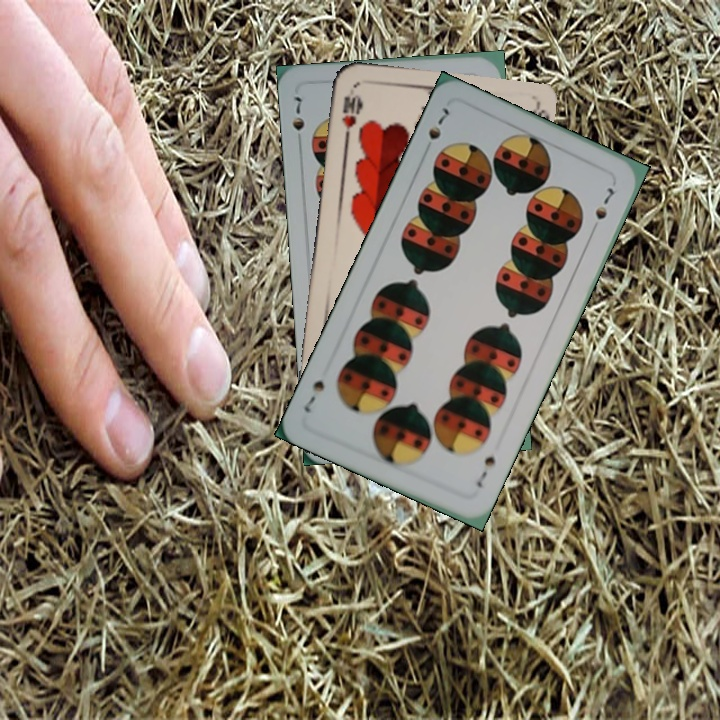H10: (337, 90, 363, 143)
S7: (424, 103, 452, 143), (472, 452, 498, 491), (288, 92, 307, 133)
